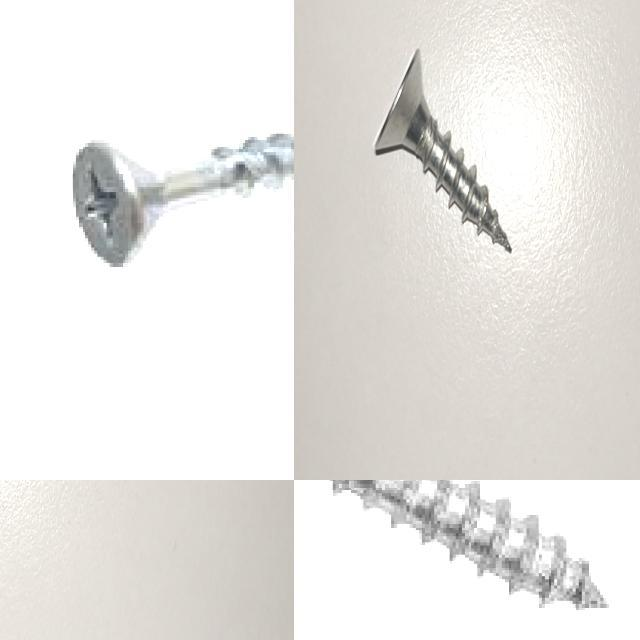Screw: (311, 480, 610, 610), (70, 133, 294, 269), (374, 48, 512, 252)
